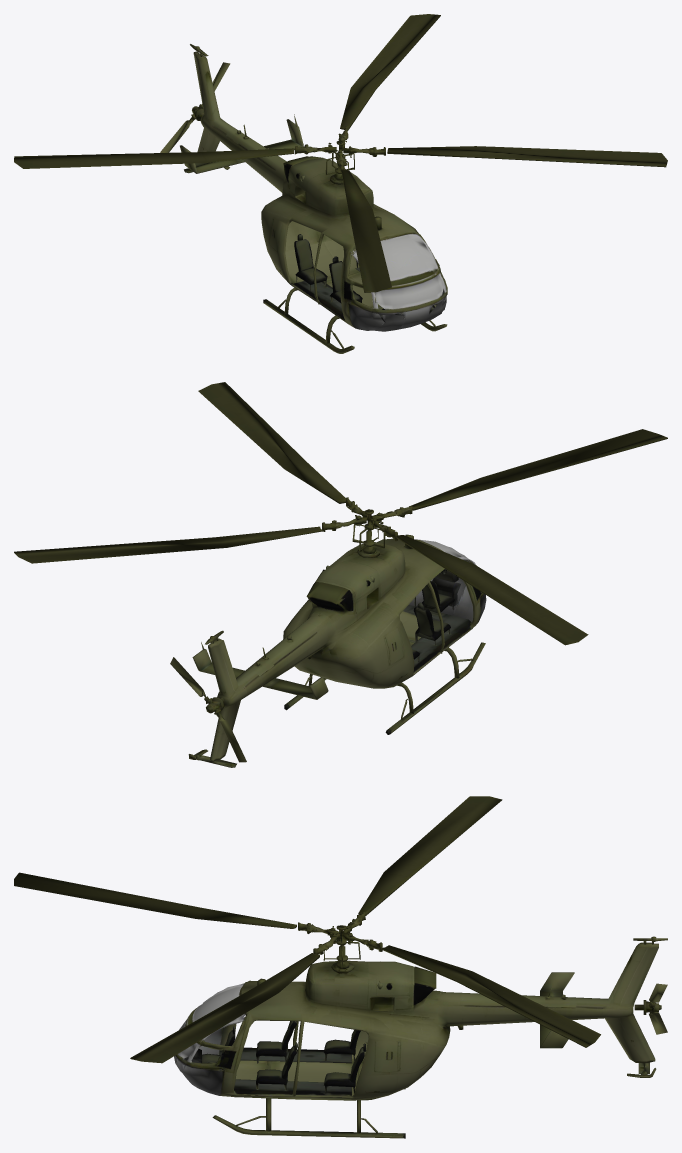
File: helicopter.glb
3 views of the same model, one above another, from view 1: azimuth 30°, elevation 25°; view 2: azimuth 150°, elevation 25°; view 3: azimuth 270°, elevation 25° (orthographic). The views are drawn at different scales.
Visible parts, largest first — view 1: tripo_node_8c971406-4159-4bcd-b4d3-24a396f71e9e; view 2: tripo_node_8c971406-4159-4bcd-b4d3-24a396f71e9e; view 3: tripo_node_8c971406-4159-4bcd-b4d3-24a396f71e9e.
Part boxes in pixels (x1=…): tripo_node_8c971406-4159-4bcd-b4d3-24a396f71e9e: x1=14, y1=14, x2=667, y2=353; tripo_node_8c971406-4159-4bcd-b4d3-24a396f71e9e: x1=14, y1=382, x2=667, y2=767; tripo_node_8c971406-4159-4bcd-b4d3-24a396f71e9e: x1=14, y1=796, x2=667, y2=1138.
Size of the model in its own units: 13.67 by 4.5 by 14.28.
1 material, 1 textured.
